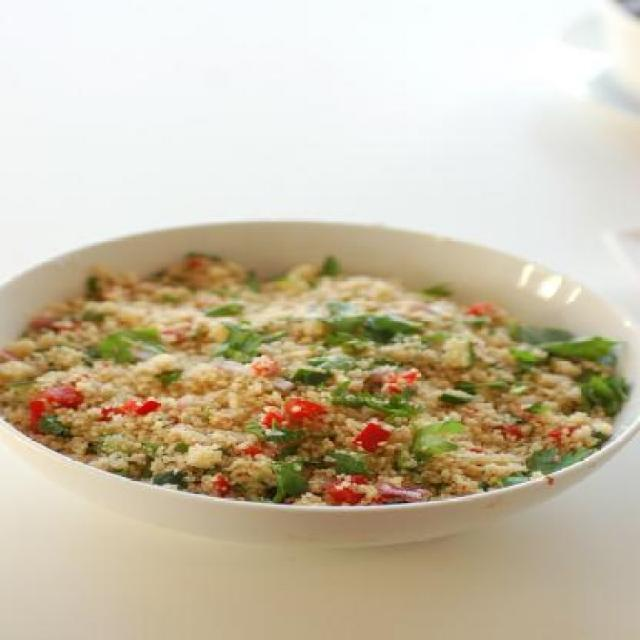Salad: (0, 230, 625, 533)
